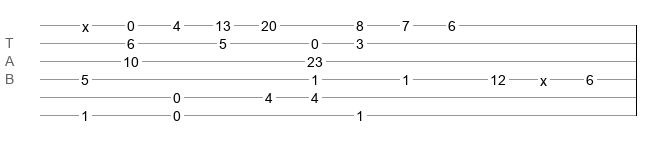0: (127, 18, 135, 28), (173, 90, 181, 100), (173, 108, 181, 118), (311, 36, 319, 46)
1: (81, 108, 89, 118), (311, 72, 319, 82), (356, 108, 364, 118), (402, 72, 410, 82)
10: (123, 54, 139, 64)
12: (490, 72, 506, 82)
13: (215, 18, 231, 28)
20: (261, 18, 277, 28)
23: (307, 54, 323, 64)
3: (356, 36, 364, 46)
4: (173, 18, 181, 28), (265, 90, 273, 100), (311, 90, 319, 100)
5: (81, 72, 89, 82), (219, 36, 227, 46)
6: (127, 36, 135, 46), (448, 18, 456, 28), (586, 72, 594, 82)
7: (402, 18, 410, 28)
8: (356, 18, 364, 28)
x: (82, 19, 89, 27), (540, 73, 547, 81)
